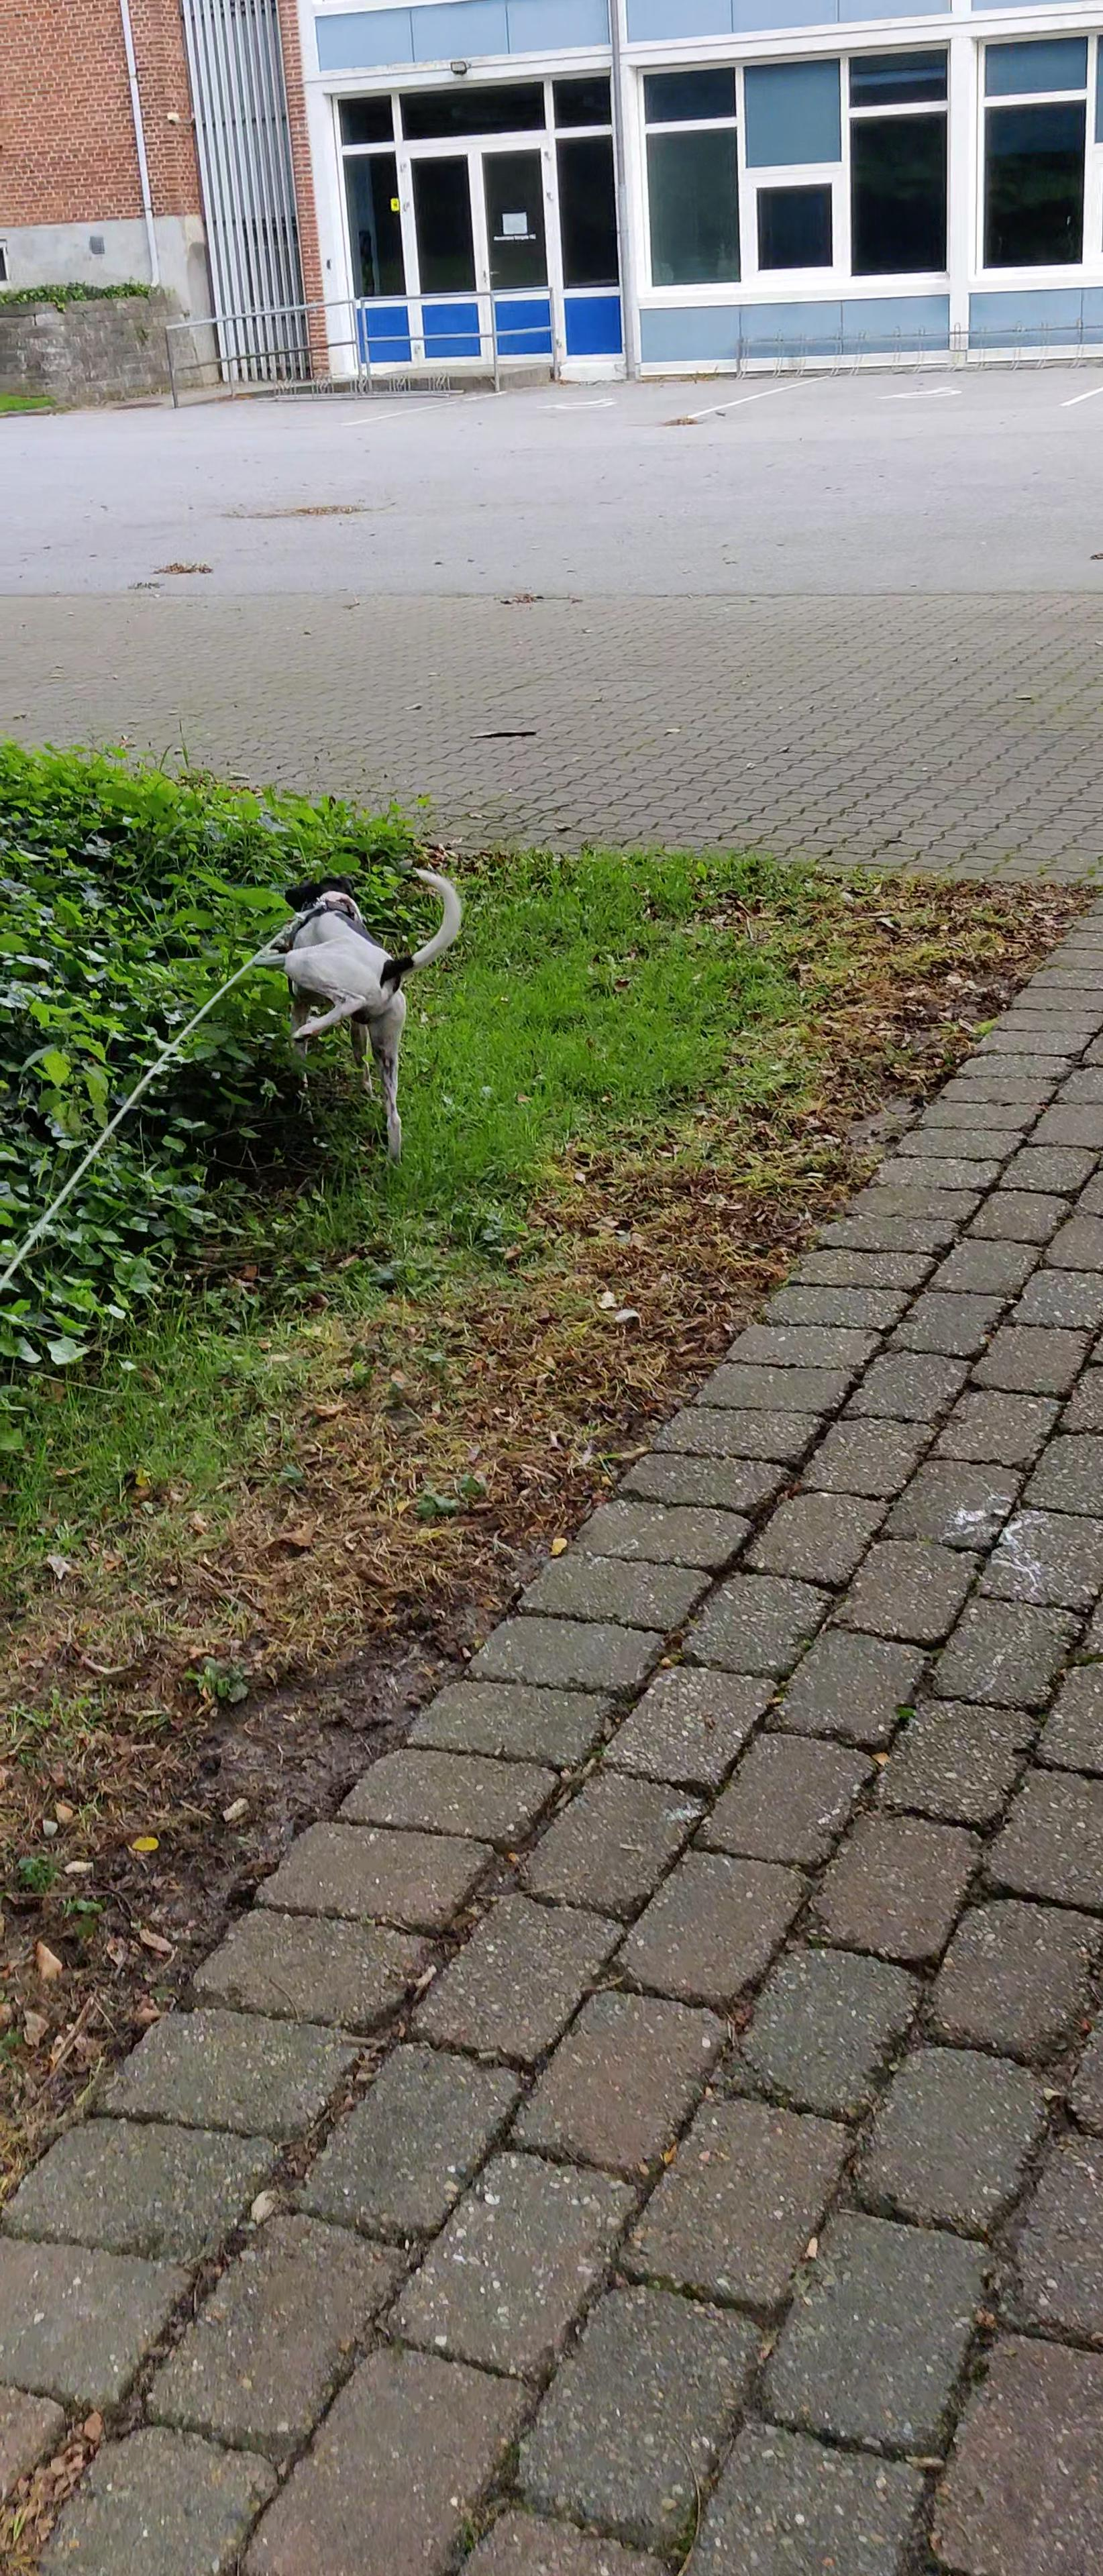Dog: (255, 854, 477, 1168)
